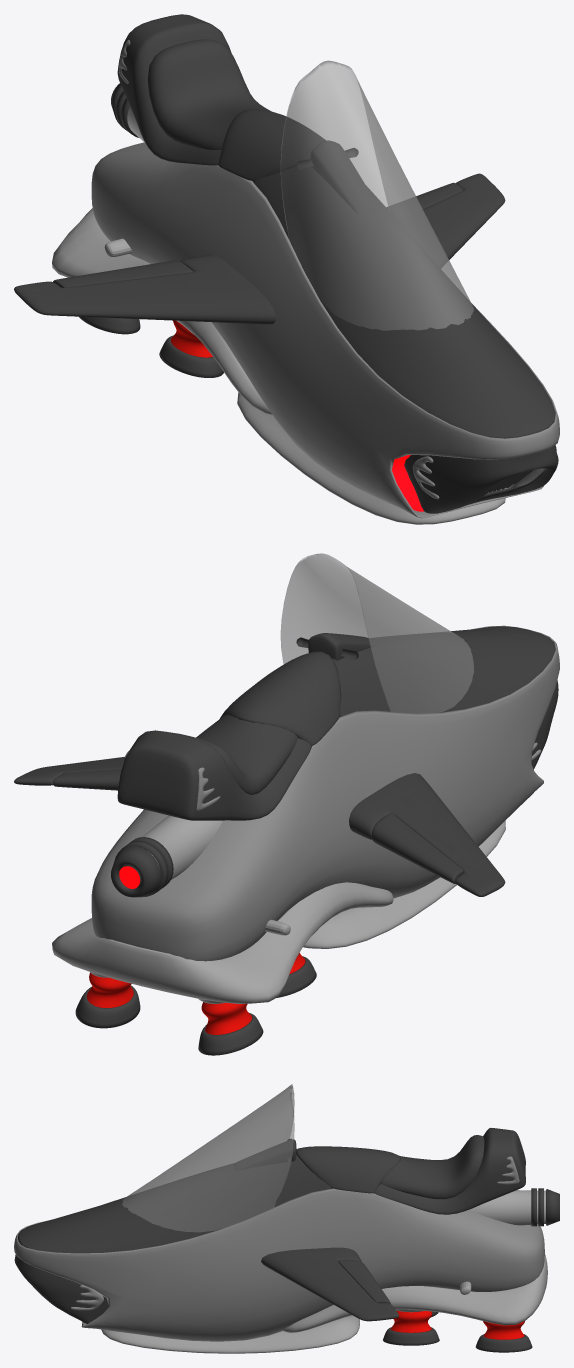
File: shox.glb
3 renders of one model, top to bottom at view 1: azimuth 30°, elevation 25°; view 2: azimuth 150°, elevation 25°; view 3: azimuth 270°, elevation 25°, orthographic. The views are drawn at different scales.
Parts seen in each view (by area): view 1: body_paint_base, body_paint_accent_1, body_glass, body_paint_metal, body_paint_accent_2, body_light_glow; view 2: body_paint_base, body_paint_accent_1, body_paint_metal, body_glass, body_paint_accent_2; view 3: body_paint_accent_1, body_paint_base, body_glass, body_paint_metal, body_paint_accent_2.
Boxes of the visible parts, x1=… form: body_paint_base: x1=14, y1=14, x2=558, y2=513; body_paint_accent_1: x1=91, y1=40, x2=559, y2=518; body_glass: x1=280, y1=60, x2=473, y2=330; body_paint_metal: x1=52, y1=106, x2=505, y2=524; body_paint_accent_2: x1=170, y1=320, x2=212, y2=357; body_light_glow: x1=392, y1=455, x2=423, y2=511; body_paint_base: x1=14, y1=626, x2=558, y2=1055; body_paint_accent_1: x1=91, y1=625, x2=559, y2=961; body_paint_metal: x1=52, y1=815, x2=505, y2=1003; body_glass: x1=280, y1=553, x2=473, y2=713; body_paint_accent_2: x1=86, y1=953, x2=305, y2=1034; body_paint_accent_1: x1=14, y1=1156, x2=544, y2=1341; body_paint_base: x1=14, y1=1128, x2=559, y2=1352; body_glass: x1=122, y1=1084, x2=294, y2=1232; body_paint_metal: x1=101, y1=1190, x2=547, y2=1353; body_paint_accent_2: x1=390, y1=1311, x2=524, y2=1339.
Bounding box in the file's own units: 2.7 × 2.06 × 4.01.
